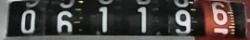digits: (174, 9, 190, 33), (20, 9, 36, 33), (211, 2, 228, 24), (56, 10, 72, 32), (97, 6, 108, 32), (136, 6, 146, 32), (58, 0, 74, 7)
